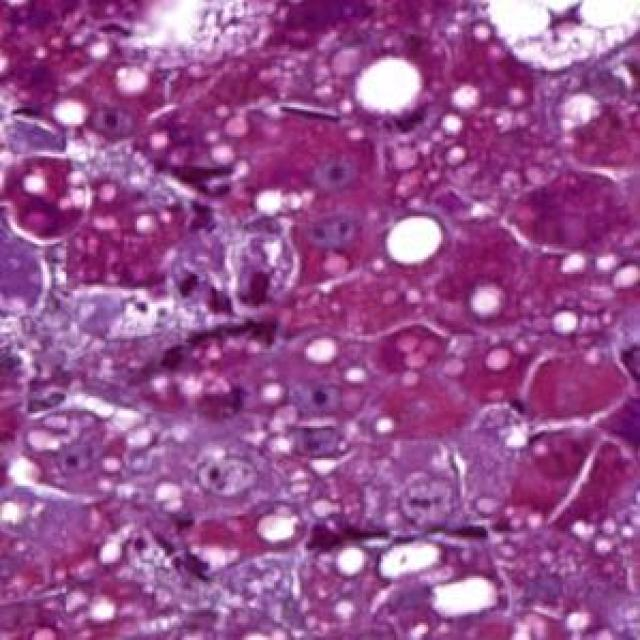ballooning: (481, 0, 640, 77), (0, 147, 98, 250)
